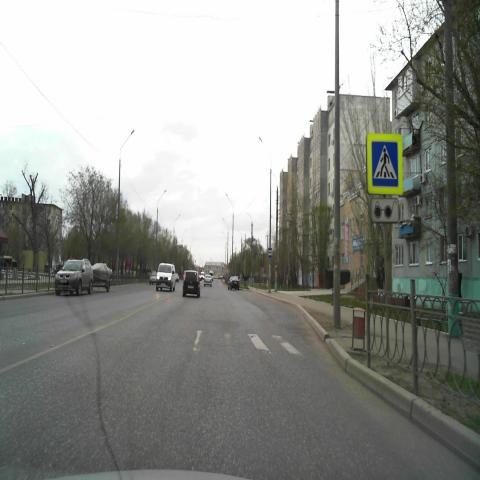8_15: (371, 199, 399, 222)
